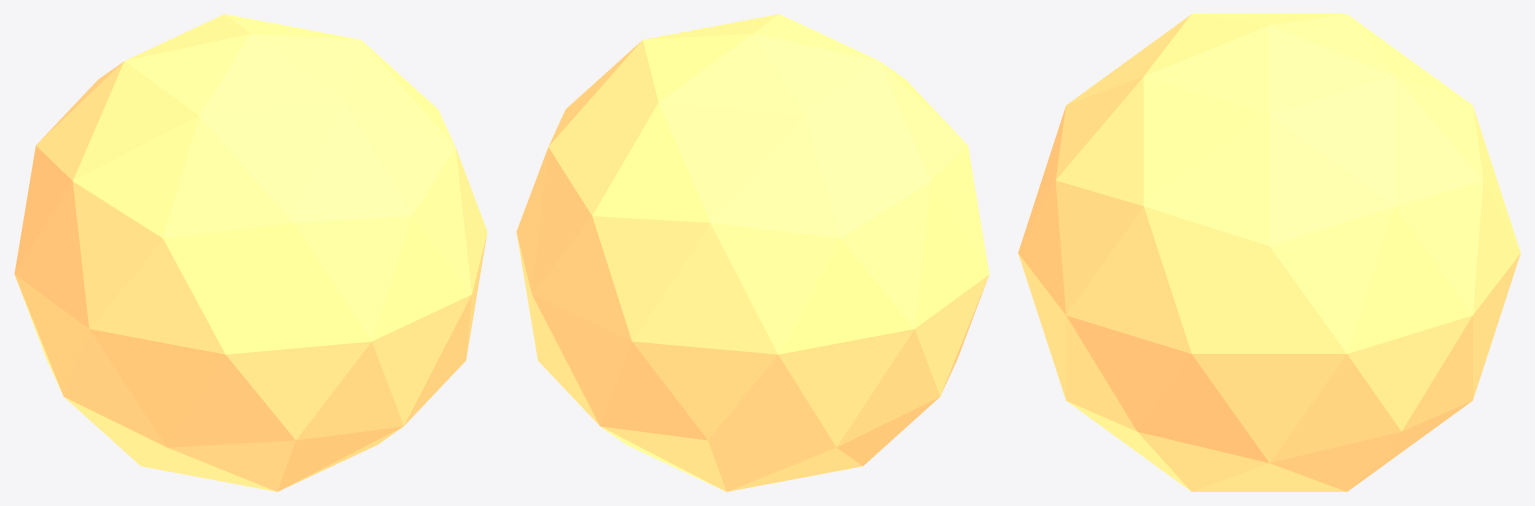
The model's file is Orbe_Rubi.glb.
3 renders of one model, left to right at view 1: azimuth 30°, elevation 25°; view 2: azimuth 150°, elevation 25°; view 3: azimuth 270°, elevation 25°, orthographic. The views are drawn at different scales.
Visible parts, largest first — view 1: Icosphere.001; view 2: Icosphere.001; view 3: Icosphere.001.
Part boxes in pixels (<box>): Icosphere.001: <box>14,14,487,491</box>; Icosphere.001: <box>516,14,989,491</box>; Icosphere.001: <box>1018,14,1520,491</box>.
Size of the model in its own units: 0.1902 by 0.2 by 0.2.
